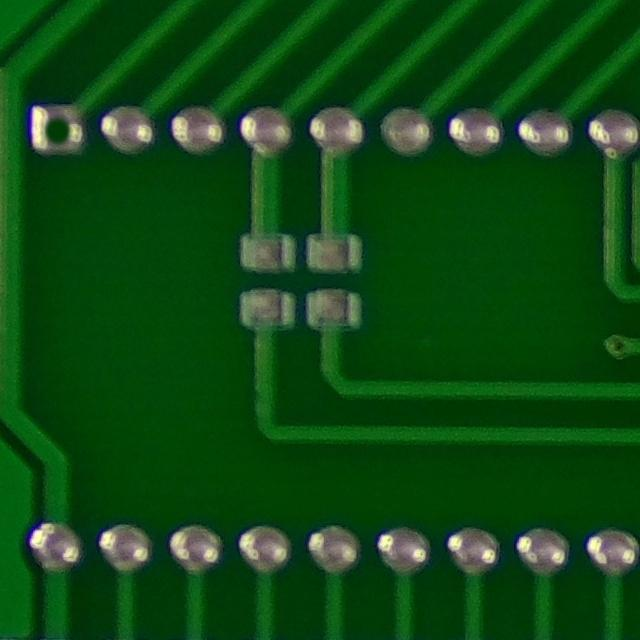missing_hole: (26, 96, 88, 165)
